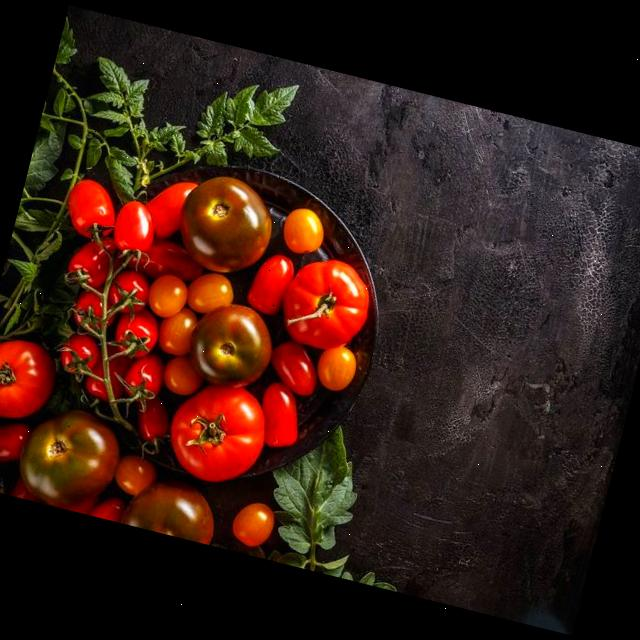tomato: (51, 246, 196, 424), (128, 248, 255, 402), (163, 163, 289, 279), (0, 398, 126, 513), (42, 168, 156, 285), (167, 376, 276, 489), (232, 188, 330, 312), (276, 247, 382, 361), (168, 291, 280, 388), (118, 164, 210, 261), (113, 470, 224, 544), (0, 328, 65, 430), (242, 325, 332, 397), (246, 378, 312, 458), (303, 340, 369, 400), (235, 489, 286, 552), (0, 417, 25, 475)
